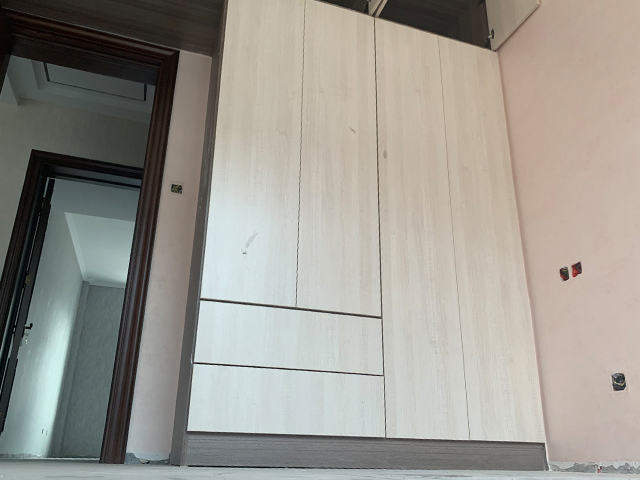cabinet: (167, 1, 551, 471)
